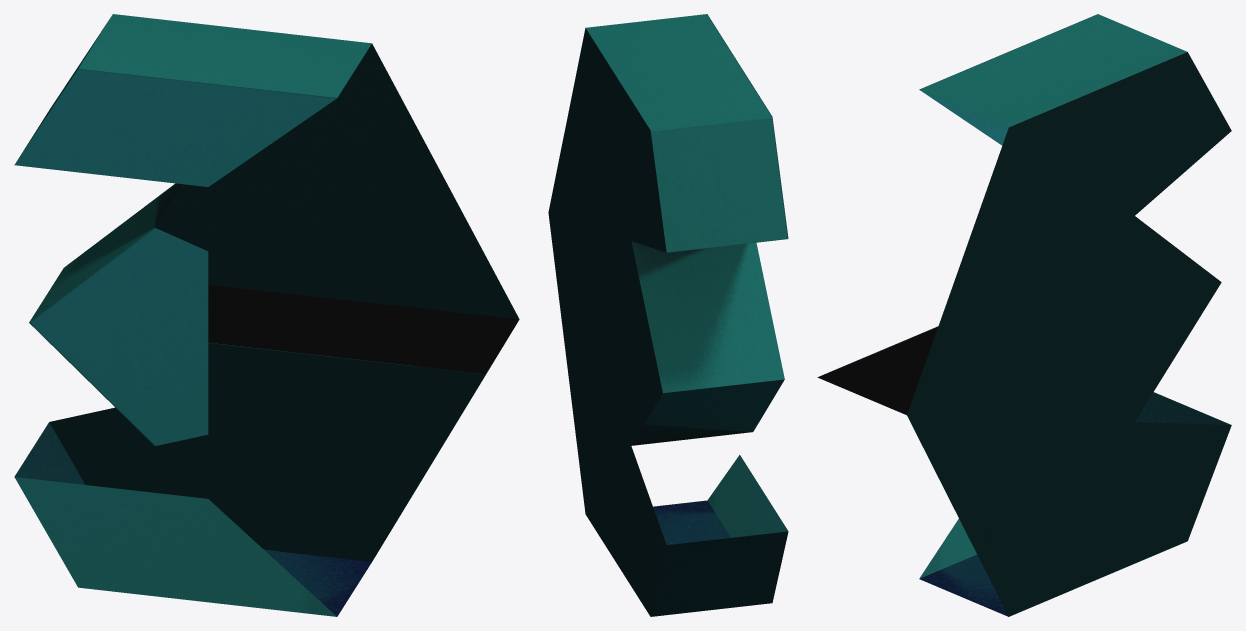
Rendered from icon_3Ds_5.glb.
The picture shows the model from 3 angles, left to right: view 1: azimuth 30°, elevation 25°; view 2: azimuth 150°, elevation 25°; view 3: azimuth 270°, elevation 25°; orthographic projection. The views are drawn at different scales.
Visible parts, largest first — view 1: icon_3Ds_5; view 2: icon_3Ds_5; view 3: icon_3Ds_5.
Part boxes in pixels (x1,y1,x2,y2): icon_3Ds_5: (14,14,519,616); icon_3Ds_5: (548,14,788,616); icon_3Ds_5: (817,14,1231,616).
Size of the model in its own units: 2.03 by 2.64 by 2.03.
Materials: 1 (1 with a texture image).
